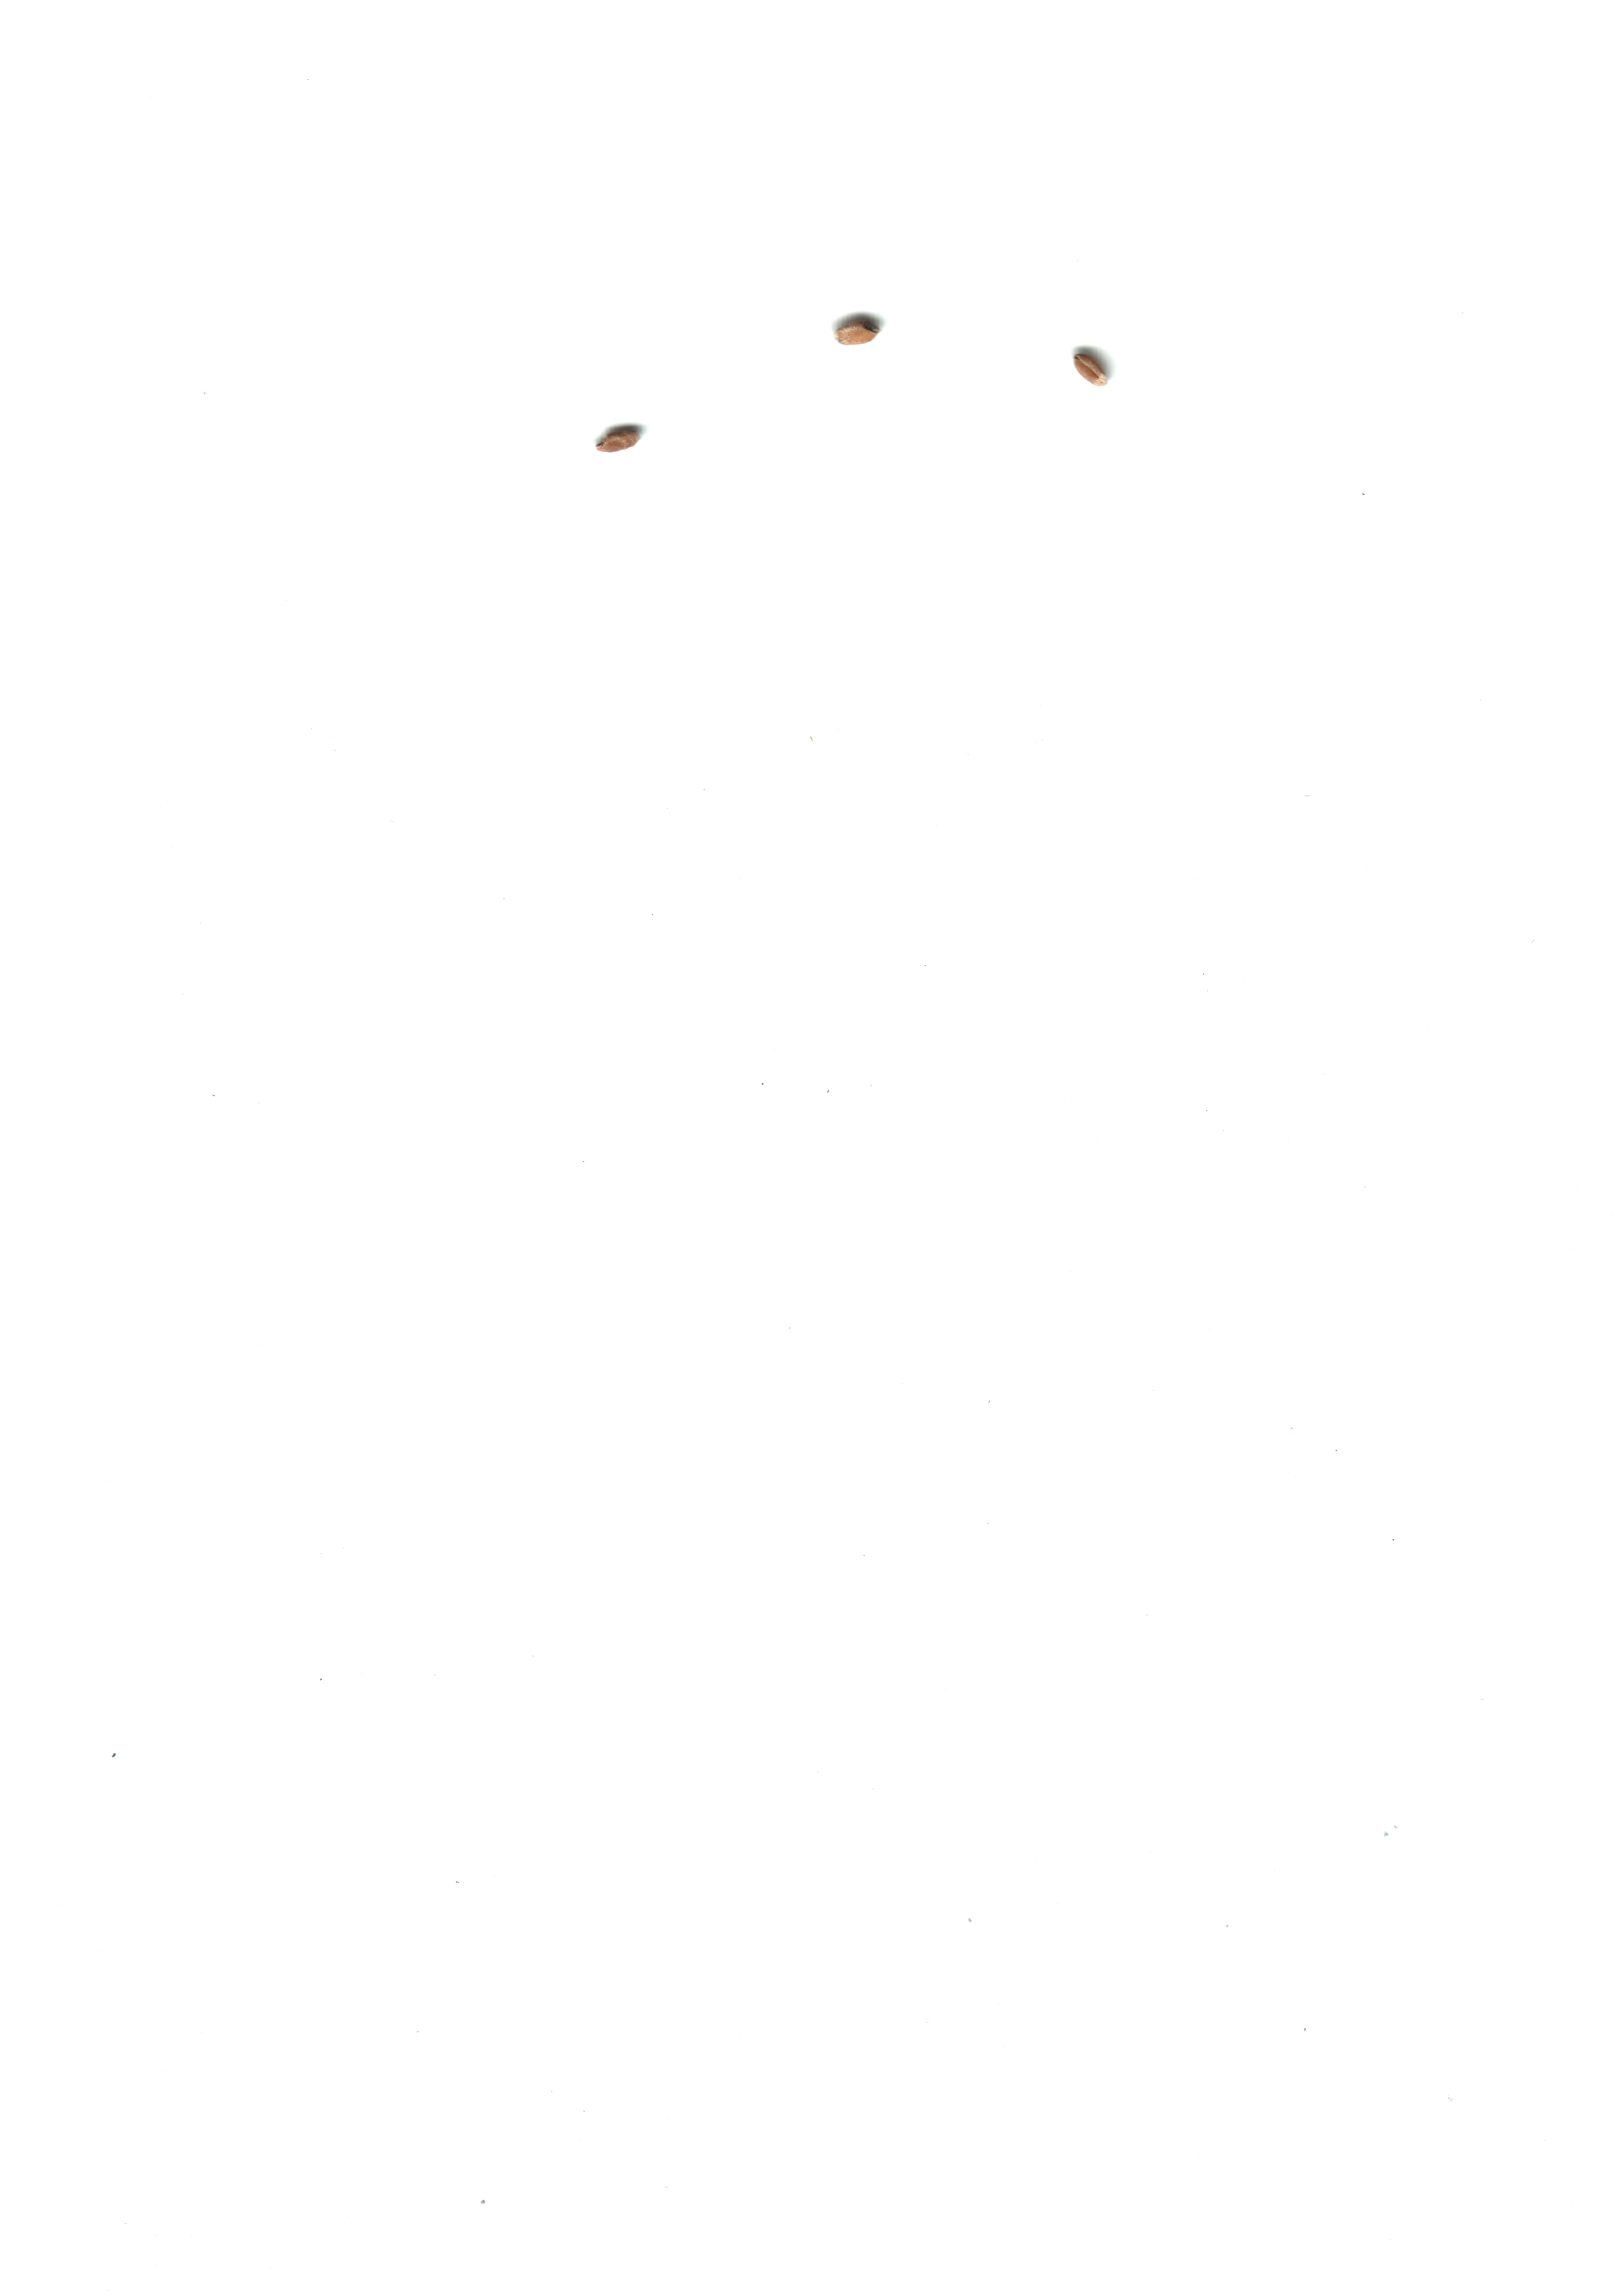grains_3mm: (1044, 326, 1139, 414), (578, 393, 673, 478), (813, 291, 908, 377)
